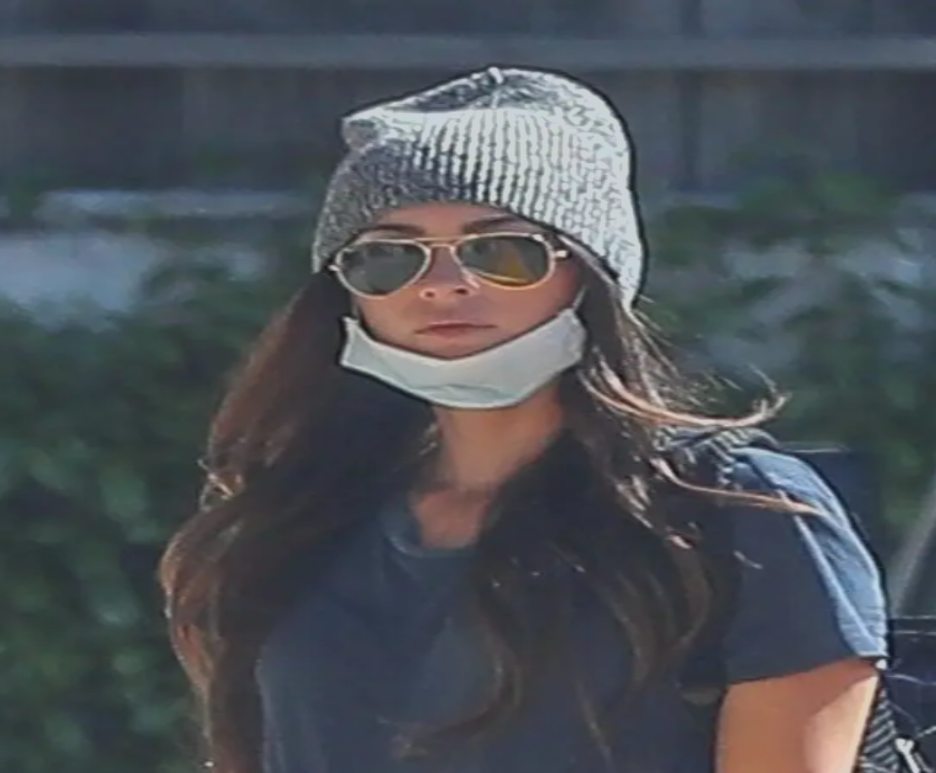mask_weared_incorrect: (313, 70, 643, 416)
